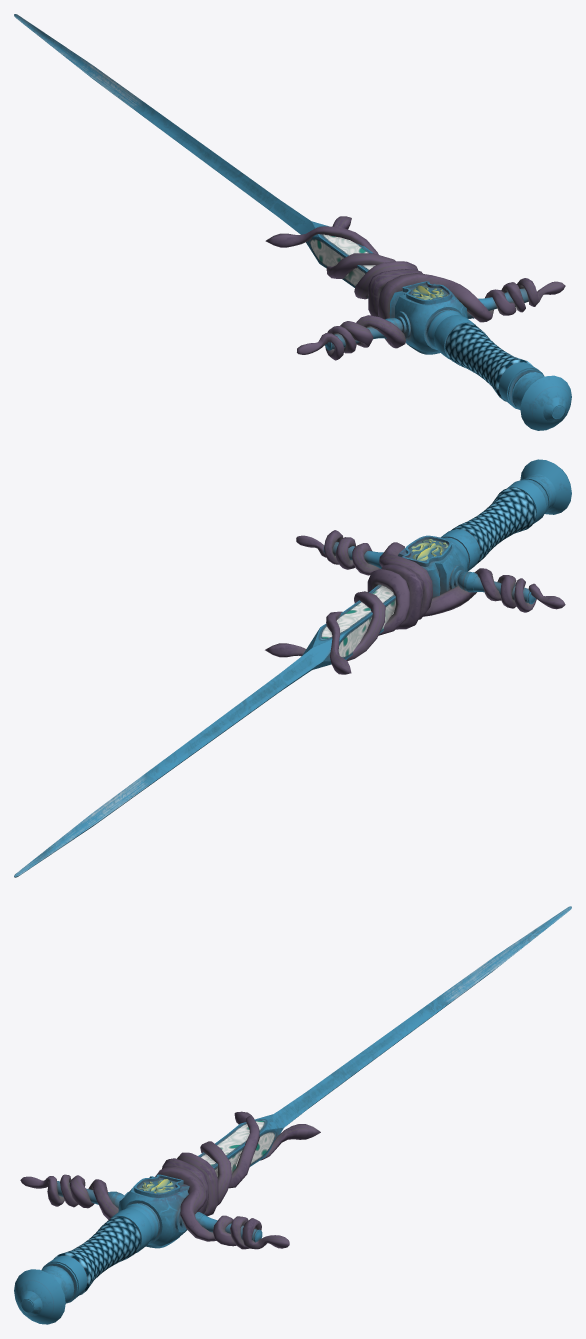
3 views of the same model, one above another, from view 1: azimuth 30°, elevation 25°; view 2: azimuth 150°, elevation 25°; view 3: azimuth 330°, elevation 25° (orthographic).
Visible parts, largest first — view 1: W1; view 2: W1; view 3: W1.
Part boxes in pixels (box(x1,y1,x2,y2)): W1: box(14, 14, 571, 430); W1: box(14, 459, 571, 877); W1: box(14, 906, 571, 1324).
Size of the model in its own units: 6.65 by 1.34 by 23.29.
Materials: 1 (1 with a texture image).
